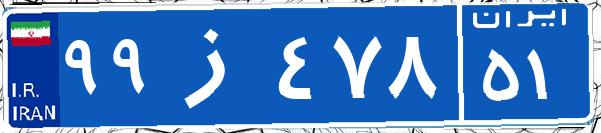1: (525, 38, 570, 115)
4: (273, 28, 330, 110)
5: (475, 38, 525, 113)
7: (330, 28, 385, 110)
8: (385, 28, 445, 110)
9: (57, 26, 110, 107), (110, 28, 158, 105)
ز: (158, 15, 273, 115)
